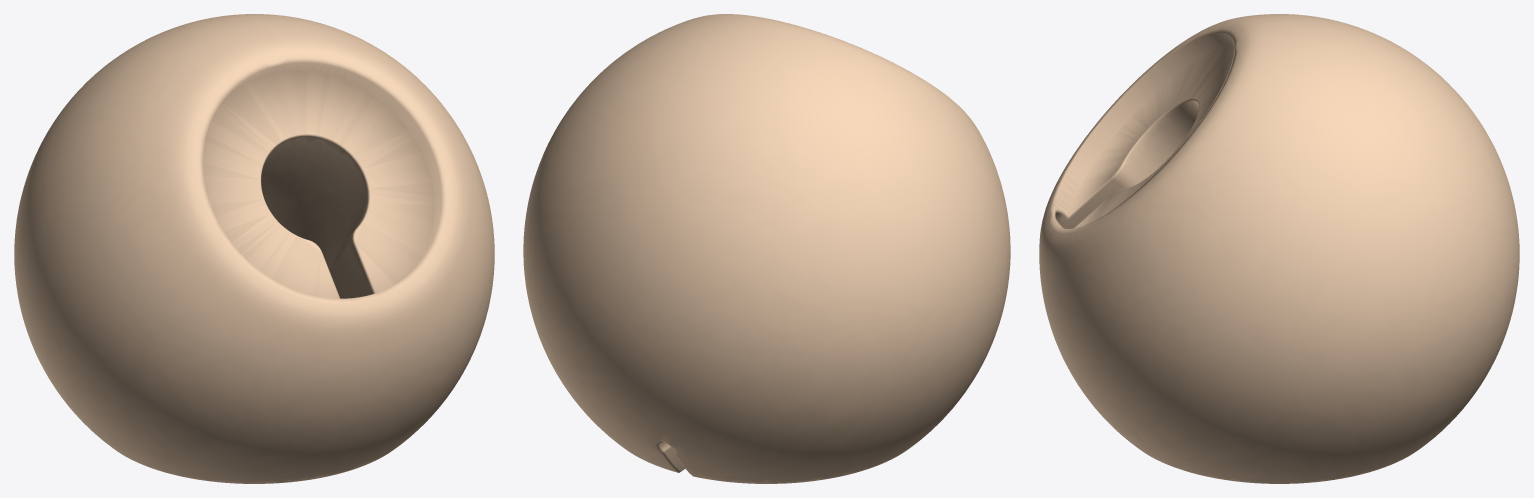
The model's file is sarj-standi-duz.glb.
The picture shows the model from 3 angles, left to right: view 1: azimuth 30°, elevation 25°; view 2: azimuth 150°, elevation 25°; view 3: azimuth 270°, elevation 25°; orthographic projection.
Visible parts, largest first — view 1: Body; view 2: Body; view 3: Body.
Boxes of the visible parts, x1=… form: Body: x1=14, y1=14, x2=494, y2=483; Body: x1=523, y1=14, x2=1010, y2=483; Body: x1=1039, y1=14, x2=1519, y2=483.
Bounding box in the file's own units: 0.105 × 0.0916 × 0.105.
